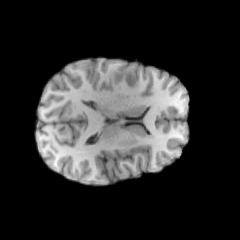glioma: (110, 64, 140, 88)
